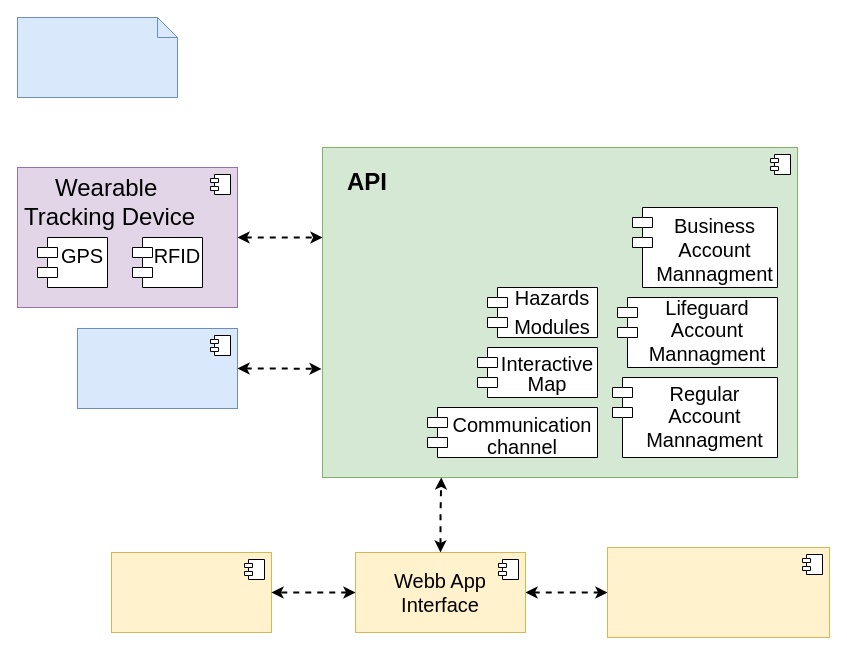
Some shapes in this 847 by 655 pixel diagram are drawn without their labels. Each missing label, with the centre of its shape:
Beachgoer / Business Interface: the point at 718,592
Database: the point at 157,368
Lifeguard Interface: the point at 191,592
SPLASH Grupo 14 (AM) V2024/12/04: the point at 97,57
